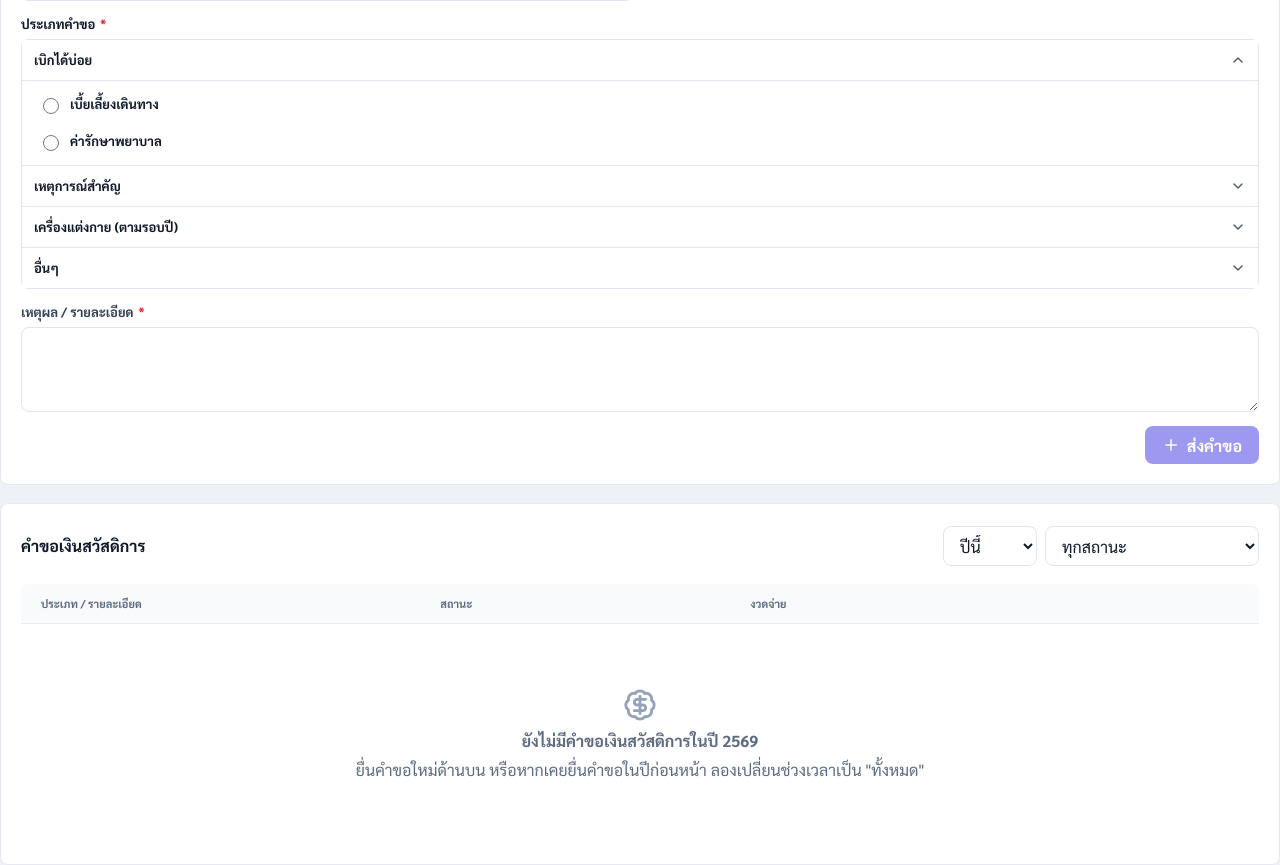
Test case: SpecialMoneyPanel › history table period selector › names the active period in the empty state, and hints at "ทั้งหมด" while year-scoped
(page scrolled)
Expected: the text "ยังไม่มีคำขอเงินสวัสดิการในปี 2569" is shown, [522,730,758,751]
Expected: the text "ลองเปลี่ยนช่วงเวลาเป็น" is shown, [356,759,924,780]
Select "ทั้งหมด" in the dropdown named "กรองตามช่วงเวลา" at [990, 546], box [943,526,1037,566]
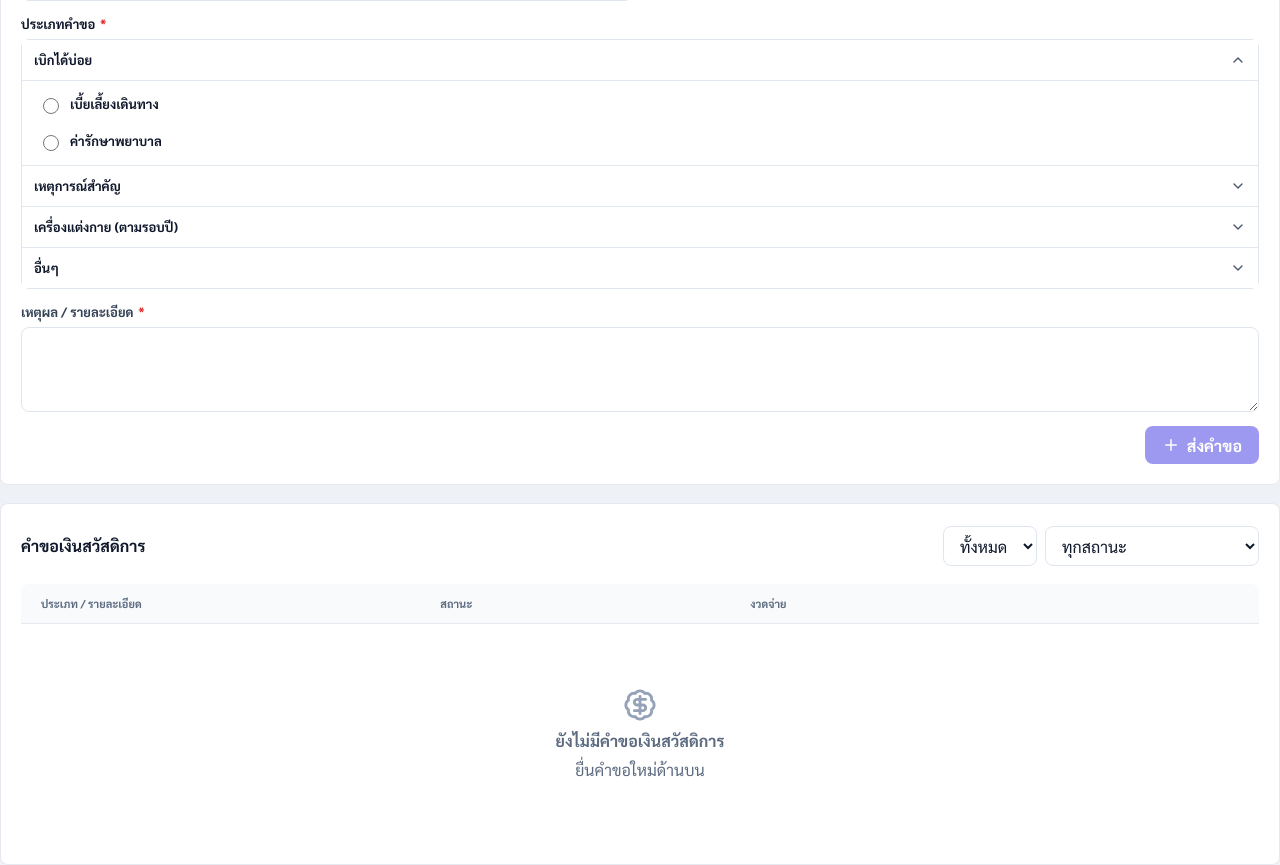
Expected: the text "ยังไม่มีคำขอเงินสวัสดิการ" is shown, [556,730,724,751]
Now the text "ยังไม่มีคำขอเงินสวัสดิการในปี 2569" is gone
Now the text "ลองเปลี่ยนช่วงเวลาเป็น" is gone
